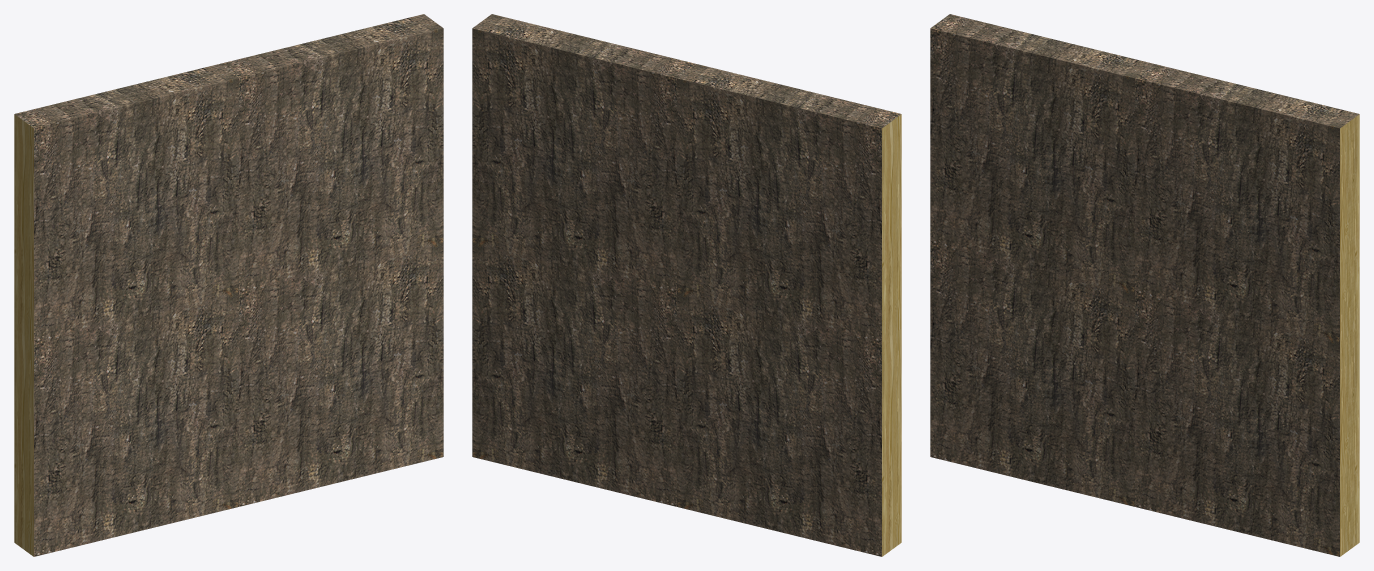
File: construction_wood_wall_solid_mesh_lod2.fbx
3 views of the same model, side by side, from view 1: azimuth 30°, elevation 25°; view 2: azimuth 150°, elevation 25°; view 3: azimuth 330°, elevation 25° (orthographic).
Visible parts, largest first — view 1: construction_wood_wall_solid_mesh; view 2: construction_wood_wall_solid_mesh; view 3: construction_wood_wall_solid_mesh.
Boxes of the visible parts, x1,y1,x2,y2 form: construction_wood_wall_solid_mesh: (14, 14, 443, 556); construction_wood_wall_solid_mesh: (472, 14, 901, 556); construction_wood_wall_solid_mesh: (930, 14, 1359, 556).
Size of the model in its own units: 300 by 300 by 25.
